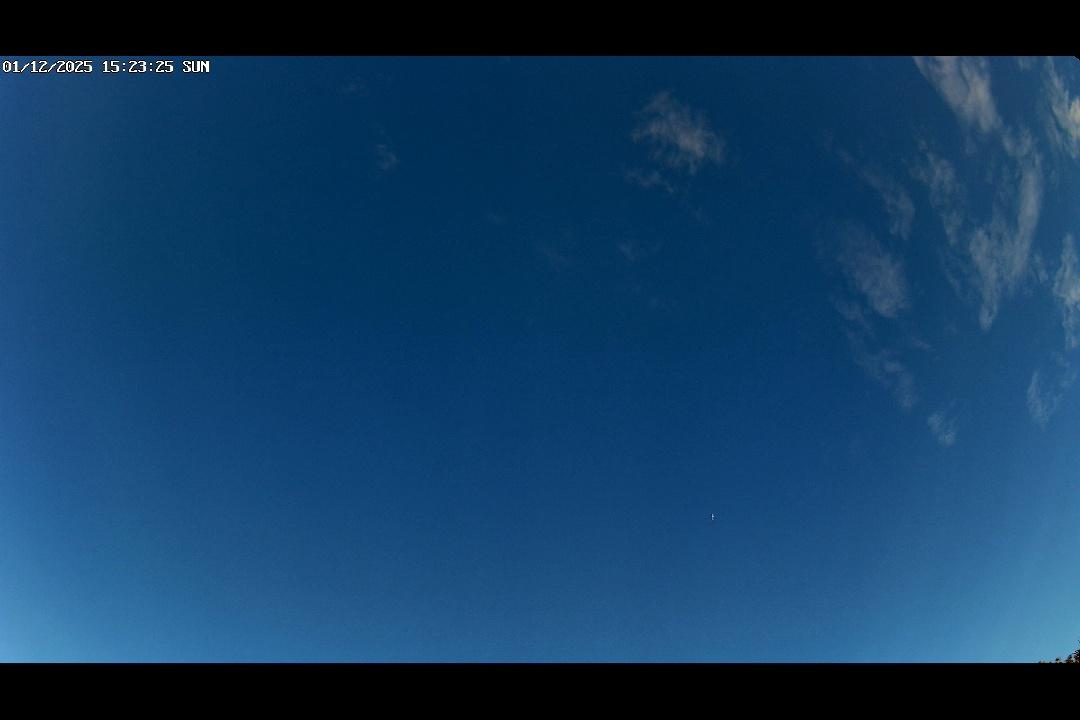Plane: (704, 511, 723, 527)
